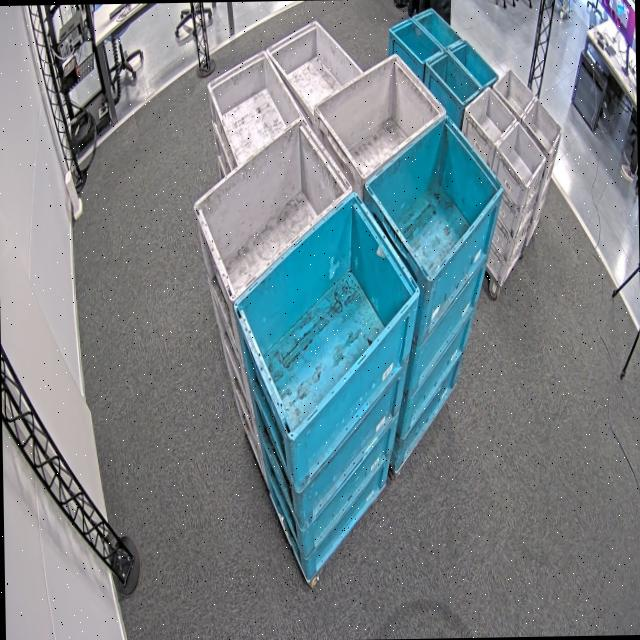Roll3G: (205, 47, 304, 168), (264, 18, 364, 118)
Roll4G: (191, 115, 354, 302), (311, 51, 448, 180)
Roll8G: (464, 82, 546, 189), (492, 67, 564, 156)
RollB4: (230, 190, 423, 442), (362, 112, 506, 284)
RollB8: (424, 38, 499, 106), (388, 6, 464, 66)
